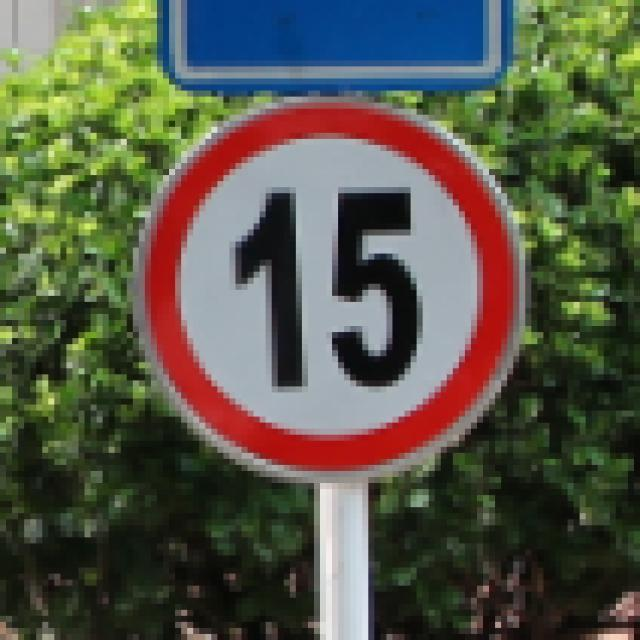Speed: (122, 113, 570, 502)
